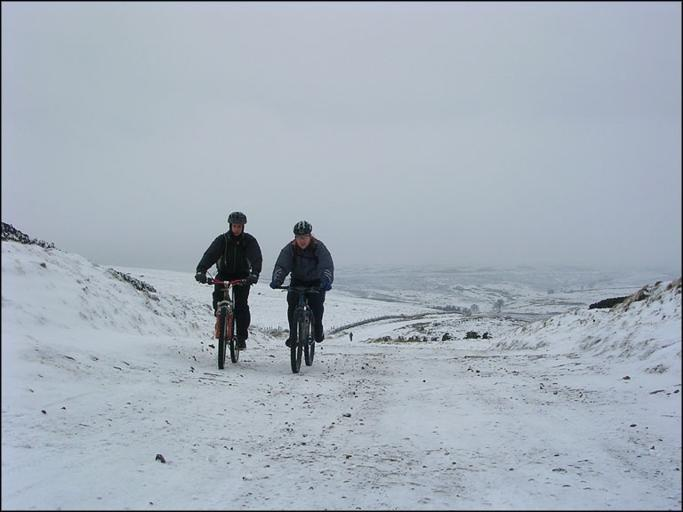non-vehicle: (201, 275, 252, 371), (271, 283, 314, 373)
